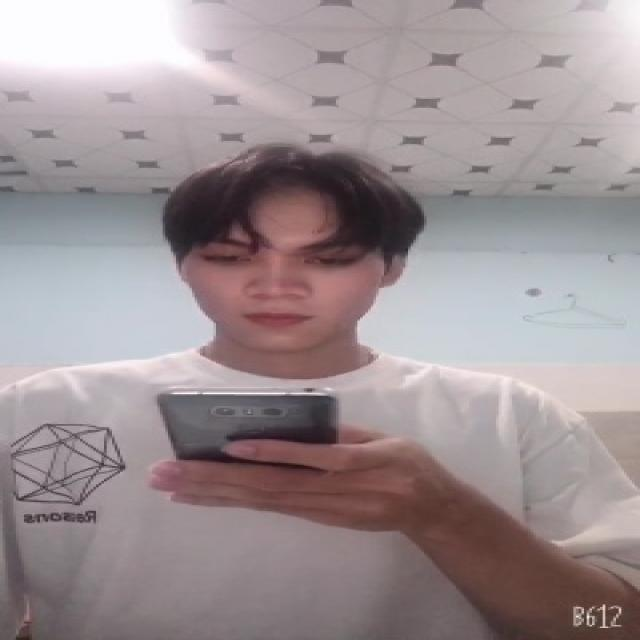Phone: (158, 384, 348, 466)
